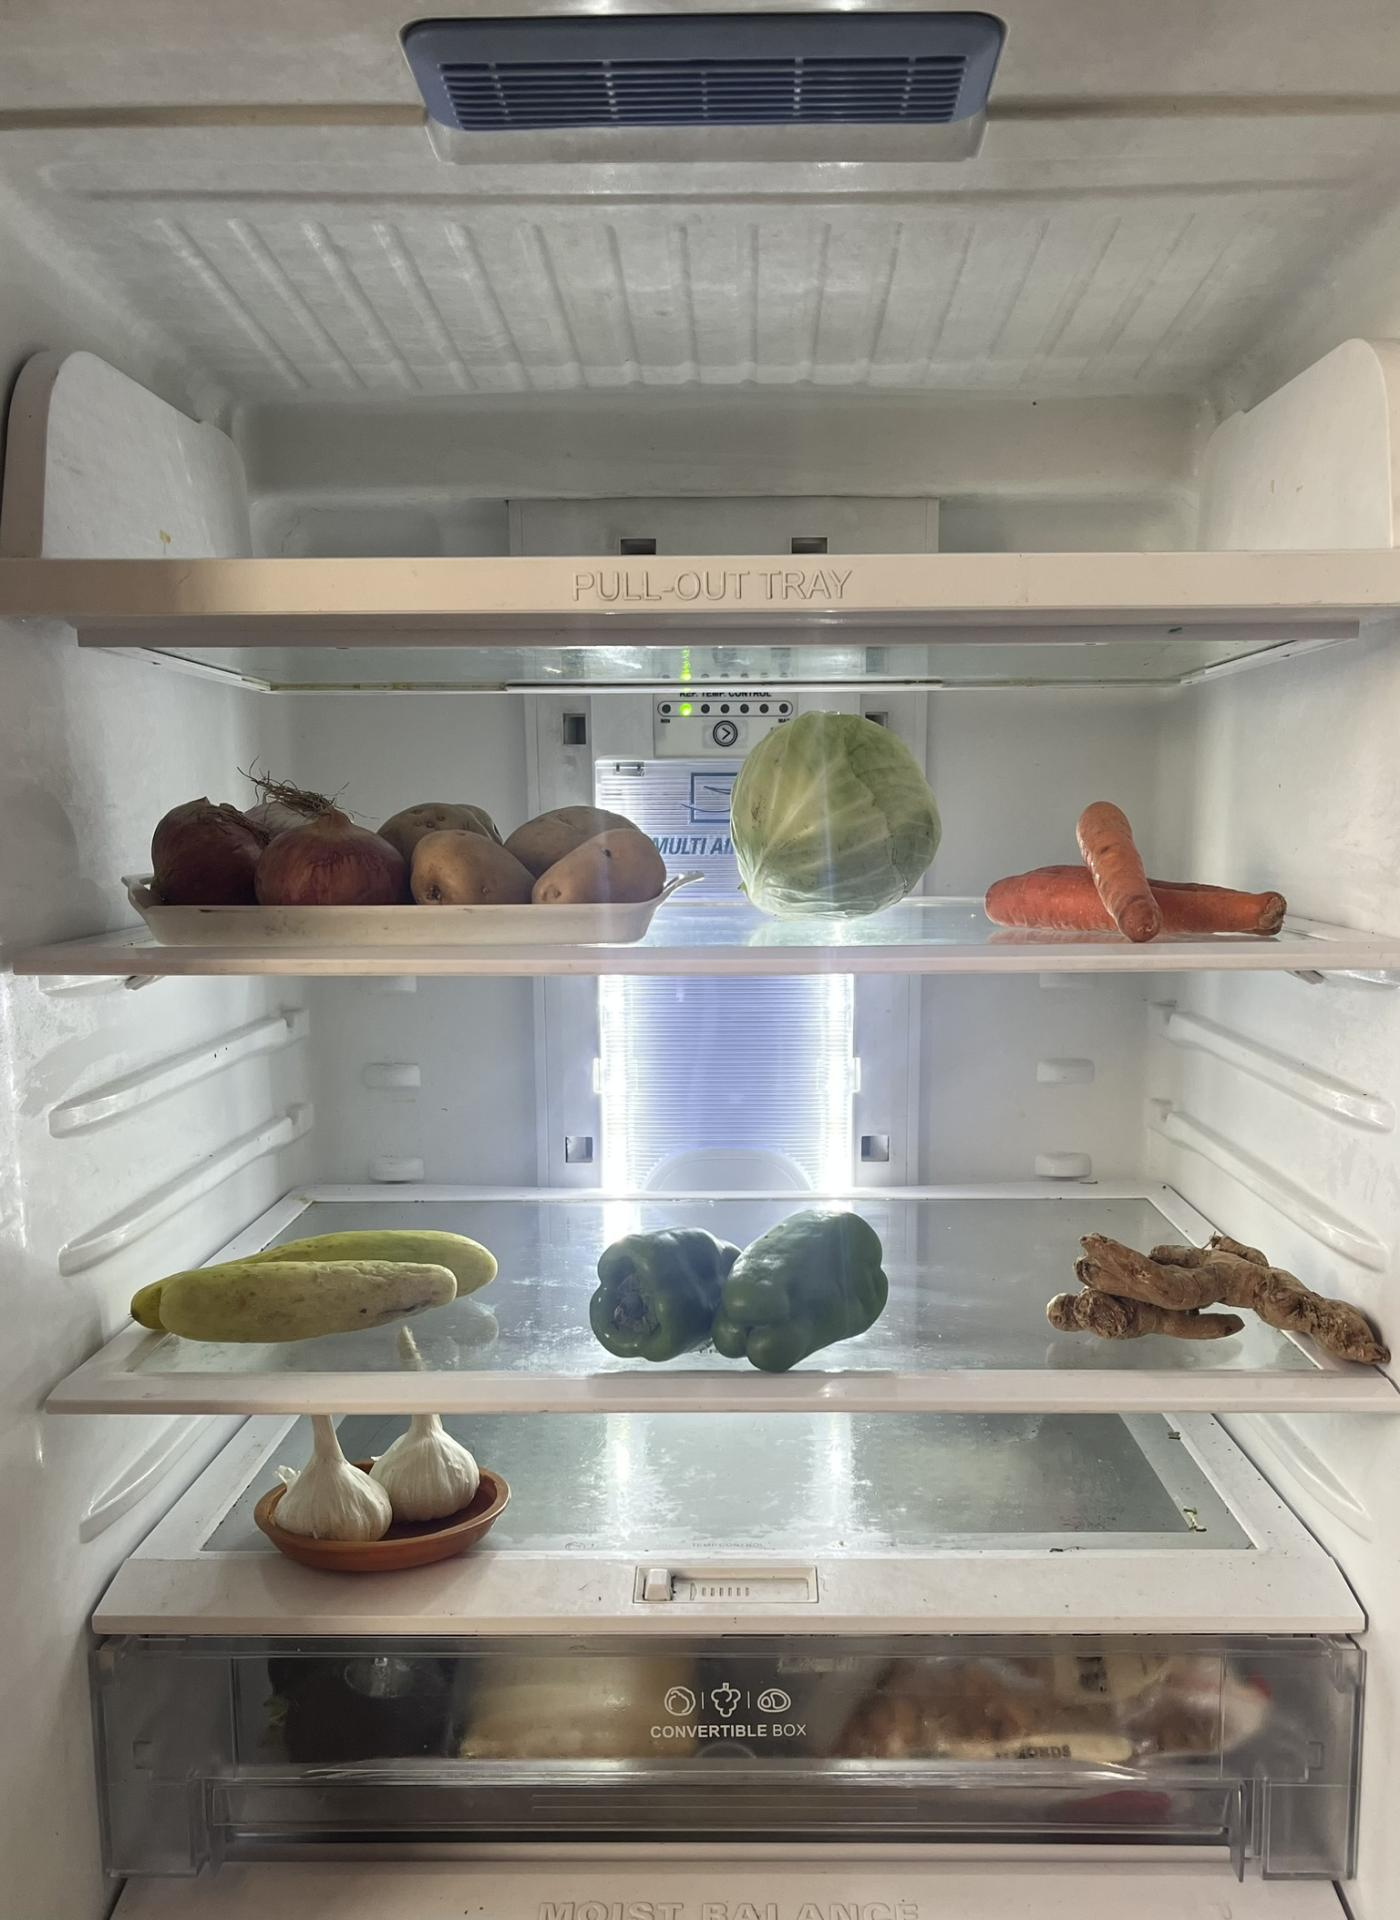cabbage: (723, 710, 945, 912)
capsicum: (586, 1209, 905, 1368)
carrots: (969, 800, 1297, 947)
cucumber: (112, 1218, 507, 1337)
garlic: (258, 1419, 516, 1525)
ginger: (1042, 1206, 1391, 1362)
onion: (146, 787, 410, 909)
potato: (374, 790, 668, 909)
